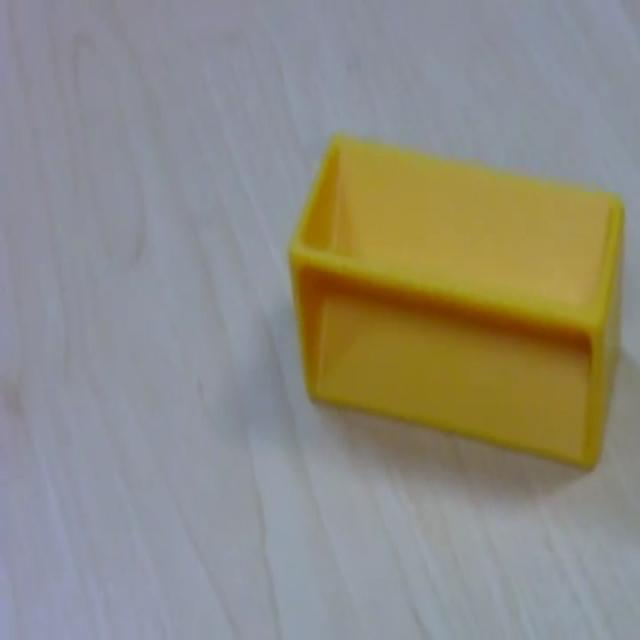yellow_block: (287, 129, 625, 472)
